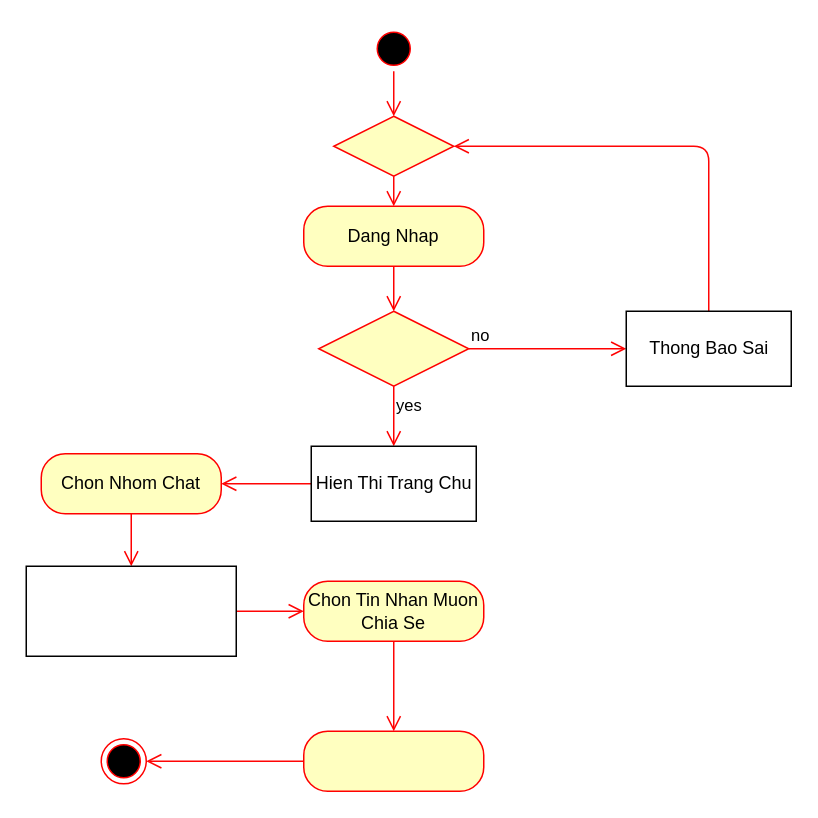
This 818x818 diagram has some shape labels left out. Here are the shapes that lost their labels. From the top down, the centre of each, then its label:
the point at 393,348: Kiem Tra TK
the point at 130,610: Hien Thi Noi Dung Chat
the point at 393,760: Chon Nguoi Muon Chia Se
